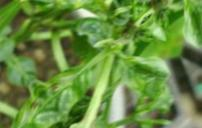Tomato leaf mosaic virus: (0, 0, 119, 76), (103, 35, 180, 112), (38, 55, 107, 123)
